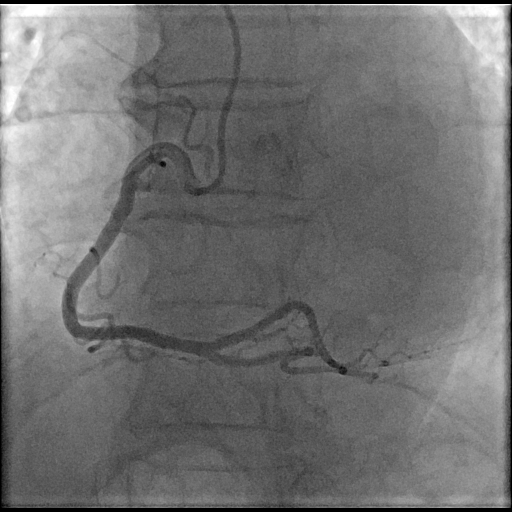RCA: (61, 143, 353, 375)
catherter: (217, 4, 240, 182)
